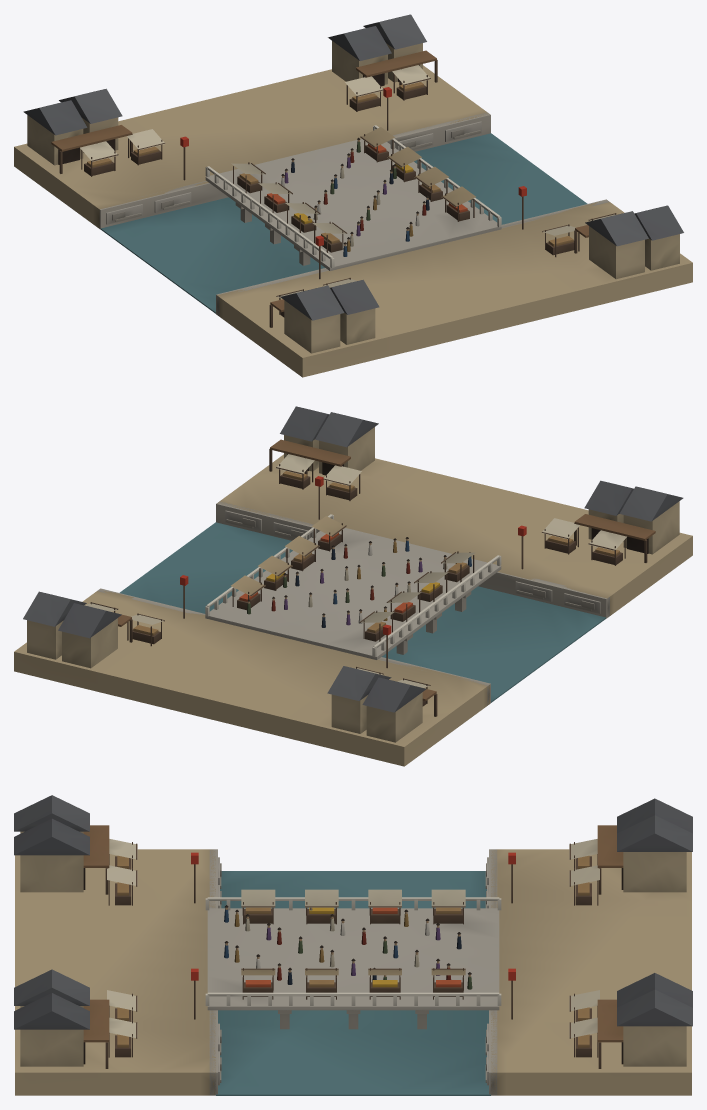
File: zhouqiao.glb
3 renders of one model, top to bottom at view 1: azimuth 30°, elevation 25°; view 2: azimuth 150°, elevation 25°; view 3: azimuth 270°, elevation 25°, orthographic. The views are drawn at different scales.
Visible parts, largest first — view 1: p0_banks, p1_shops, p2_market; view 2: p0_banks, p1_shops, p2_market; view 3: p0_banks, p1_shops, p2_market.
Part boxes in pixels (x1,y1,x2,y2): p0_banks: [14, 65, 692, 377]; p1_shops: [23, 14, 683, 353]; p2_market: [80, 65, 616, 317]; p0_banks: [14, 454, 692, 766]; p1_shops: [23, 406, 683, 742]; p2_market: [85, 454, 626, 706]; p0_banks: [15, 849, 691, 1095]; p1_shops: [14, 795, 692, 1068]; p2_market: [107, 839, 599, 1057].
Bounding box in the file's own units: 50.03 × 8.63 × 64.2.
